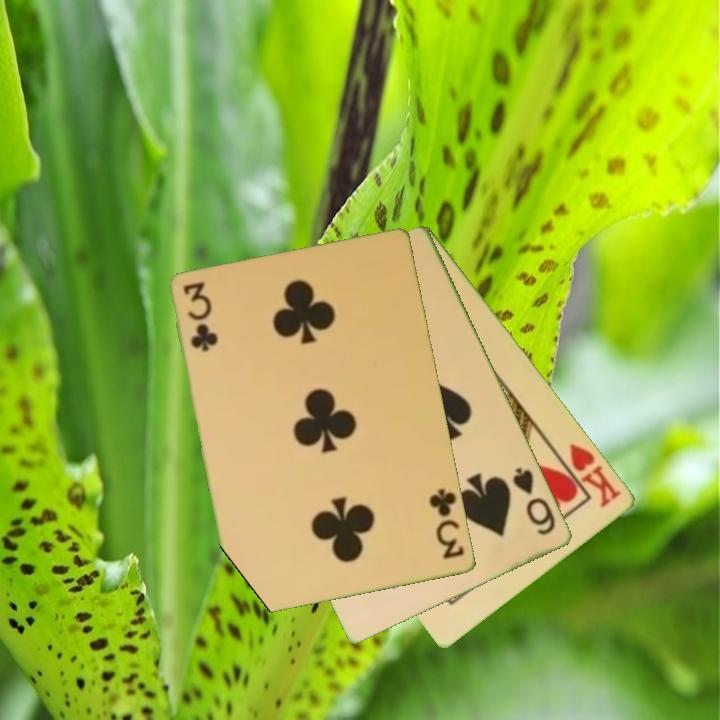3c: (426, 485, 468, 563), (180, 278, 218, 355)
6s: (509, 463, 559, 539)
Kh: (553, 440, 625, 511)
